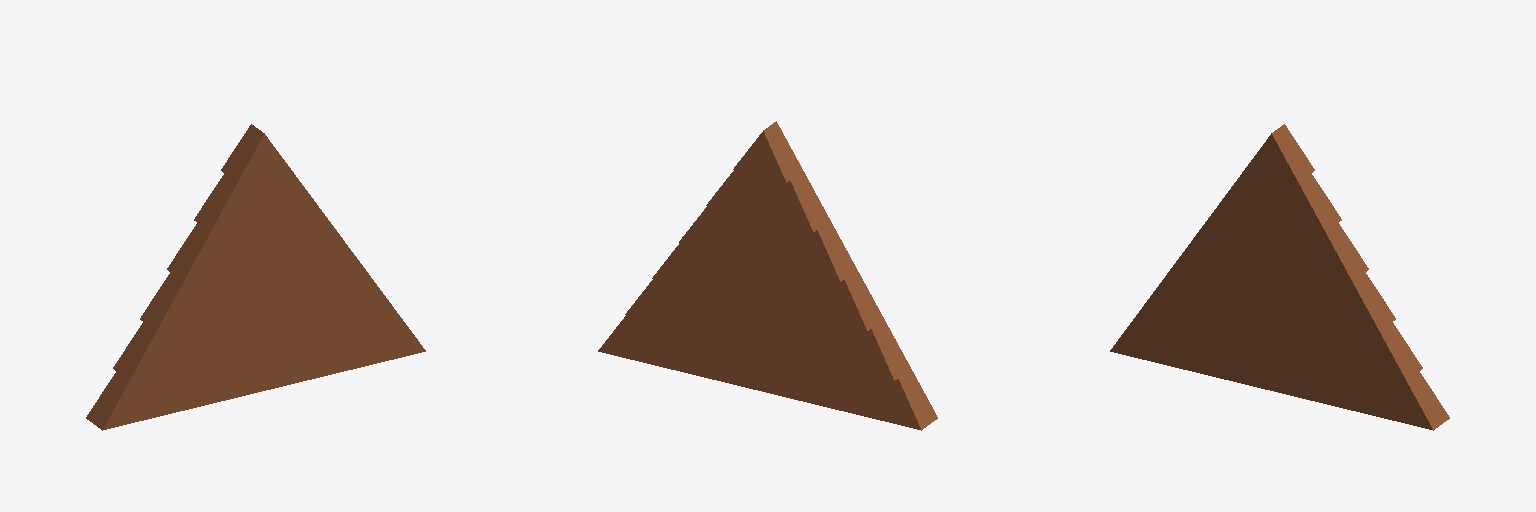
File: cabinSideCenter.obj
3 renders of one model, left to right at view 1: azimuth 30°, elevation 25°; view 2: azimuth 150°, elevation 25°; view 3: azimuth 330°, elevation 25°, orthographic.
Parts seen in each view (by area): view 1: cabinSideCenter; view 2: cabinSideCenter; view 3: cabinSideCenter.
Boxes of the visible parts, box(x1,y1,x2,y2) form: cabinSideCenter: box(86, 124, 425, 430); cabinSideCenter: box(598, 121, 937, 430); cabinSideCenter: box(1110, 124, 1449, 430).
Bounding box in the file's own units: 1 × 0.76 × 0.0902.